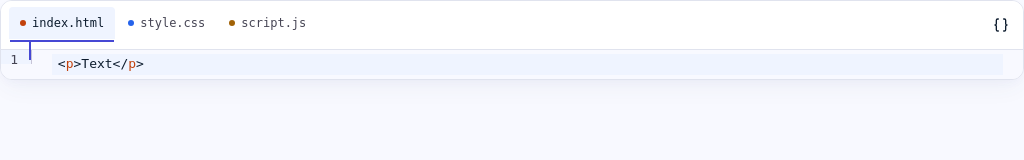
Test case: CodeEditor file drop › registers the native preview only on HTML and clears it on tab change and unmount
This screenshot has width=1024, height=160.
Expected: the element with class "htnote-drop-cursor" is shown, [29,40,31,60]
Click the tab "style.css". click: (167, 23)
box: [117,7,216,39]
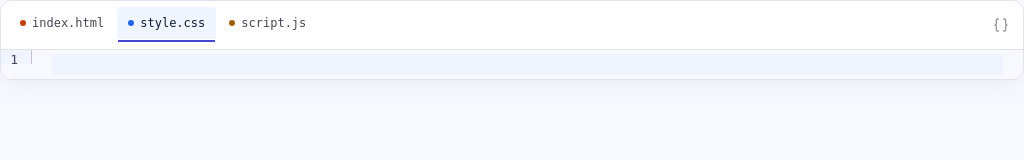
Result: the element with class "htnote-drop-cursor" is gone
Click the tab "index.html". click: (62, 23)
box: [9,7,115,39]
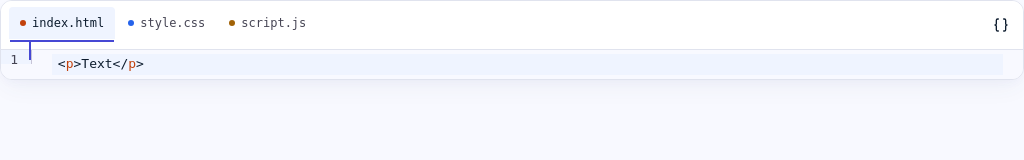
Result: the element with class "htnote-drop-cursor" is shown at [29,40,31,60]
